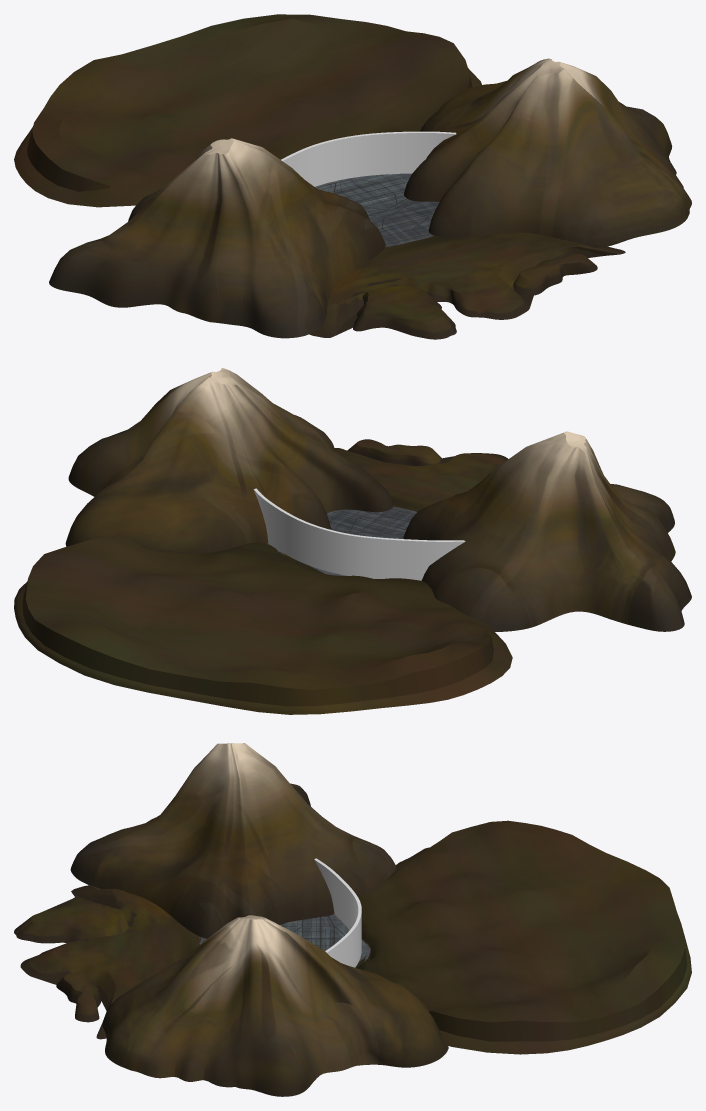
The model's file is Ground and Streets and Mountains (Version 4).fbx.
3 renders of one model, top to bottom at view 1: azimuth 30°, elevation 25°; view 2: azimuth 150°, elevation 25°; view 3: azimuth 270°, elevation 25°, orthographic. The views are drawn at different scales.
Visible parts, largest first — view 1: Wasteland, Mountain.002, Mountain, Poor Ground, Illusion Wall, Rich Ground.001, Rich Ground; view 2: Wasteland, Mountain.002, Mountain, Illusion Wall, Poor Ground, Rich Ground.001; view 3: Wasteland, Mountain, Mountain.002, Poor Ground, Illusion Wall, Rich Ground.001.
Part boxes in pixels (<box>): Wasteland: <box>14,14,481,207</box>; Mountain.002: <box>49,138,385,338</box>; Mountain: <box>404,58,691,247</box>; Poor Ground: <box>309,232,625,339</box>; Illusion Wall: <box>281,131,456,186</box>; Rich Ground.001: <box>315,173,439,247</box>; Rich Ground: <box>317,177,436,244</box>; Wasteland: <box>14,534,512,714</box>; Mountain.002: <box>403,431,691,631</box>; Mountain: <box>65,368,393,554</box>; Illusion Wall: <box>253,488,465,580</box>; Poor Ground: <box>334,439,508,511</box>; Rich Ground.001: <box>267,506,416,575</box>; Wasteland: <box>355,820,691,1054</box>; Mountain: <box>102,915,448,1096</box>; Mountain.002: <box>70,743,396,938</box>; Poor Ground: <box>14,885,201,1039</box>; Illusion Wall: <box>314,858,361,967</box>; Rich Ground.001: <box>199,914,370,963</box>.
Bounding box in the file's own units: 155 × 34.67 × 152.
